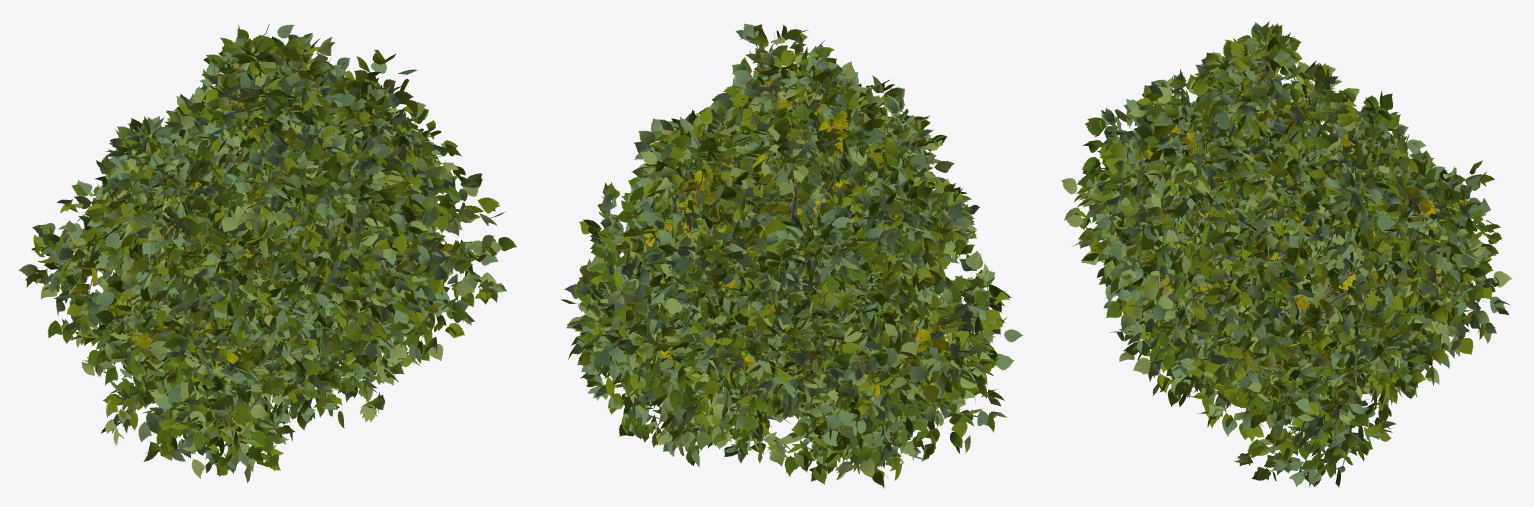
The model's file is Bush 3 (smaller).fbx.
3 views of the same model, side by side, from view 1: azimuth 30°, elevation 25°; view 2: azimuth 150°, elevation 25°; view 3: azimuth 270°, elevation 25° (orthographic).
Parts seen in each view (by area): view 1: Bush 3 (smaller); view 2: Bush 3 (smaller); view 3: Bush 3 (smaller).
Part boxes in pixels (x1,y1,x2,y2): Bush 3 (smaller): (18, 24, 516, 483); Bush 3 (smaller): (561, 23, 1022, 488); Bush 3 (smaller): (1061, 21, 1511, 487).
Size of the model in its own units: 20.22 by 19.4 by 19.74.
